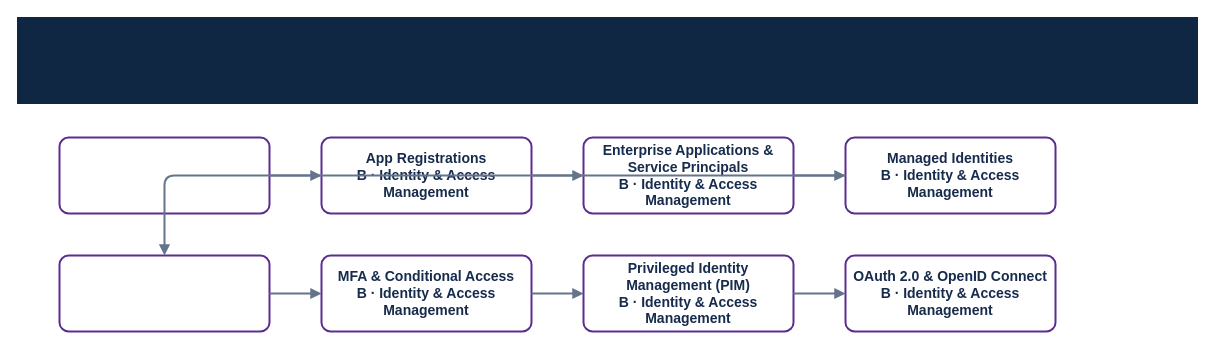
This 1215x350 diagram has some shape labels left out. Each missing label, with the box of its shape:
Azure RBAC B · Identity & Access Management: (58, 254, 270, 332)
B · Identity & Access Management: (16, 16, 1198, 104)
Microsoft Entra ID B · Identity & Access Management: (58, 136, 270, 214)
